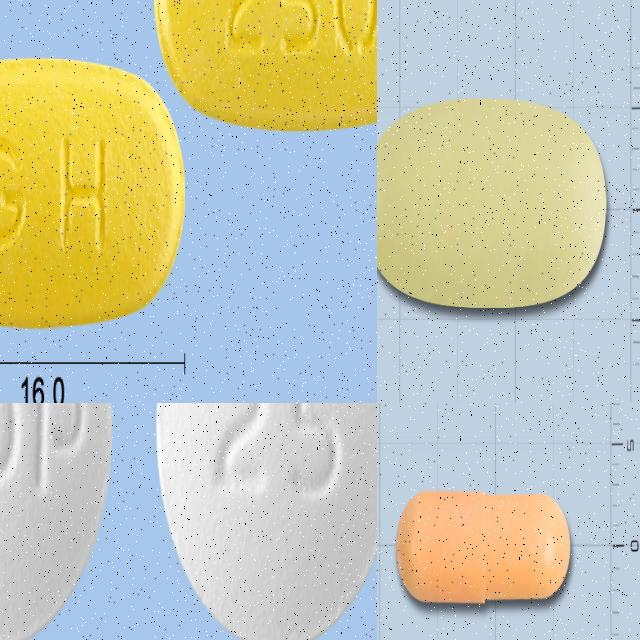A Progen Cefixime Cap: (396, 486, 574, 608)
Ciflox: (155, 403, 377, 640), (0, 403, 116, 640)
Clana: (0, 51, 190, 335), (153, 0, 377, 138)
Claroma: (377, 96, 607, 309)
